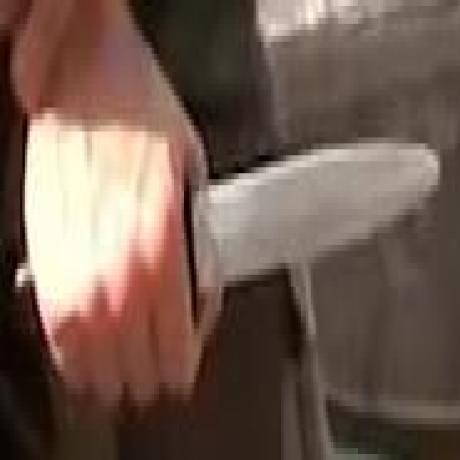1: (6, 0, 223, 400)
weapon: (192, 128, 442, 300)
